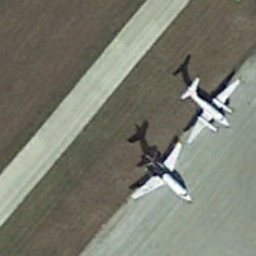Airplane: (119, 134, 205, 221), (165, 60, 247, 148)
